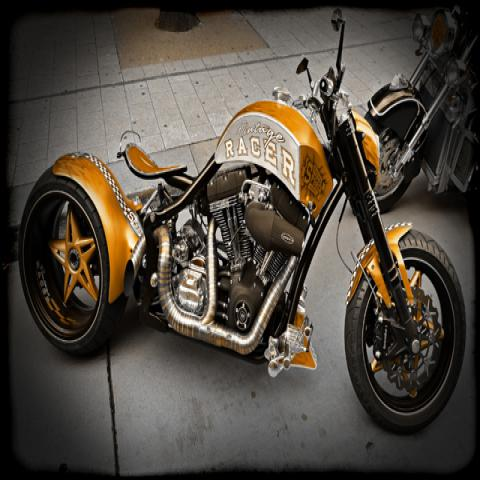motorcycle: (19, 3, 466, 433), (367, 1, 479, 211)
